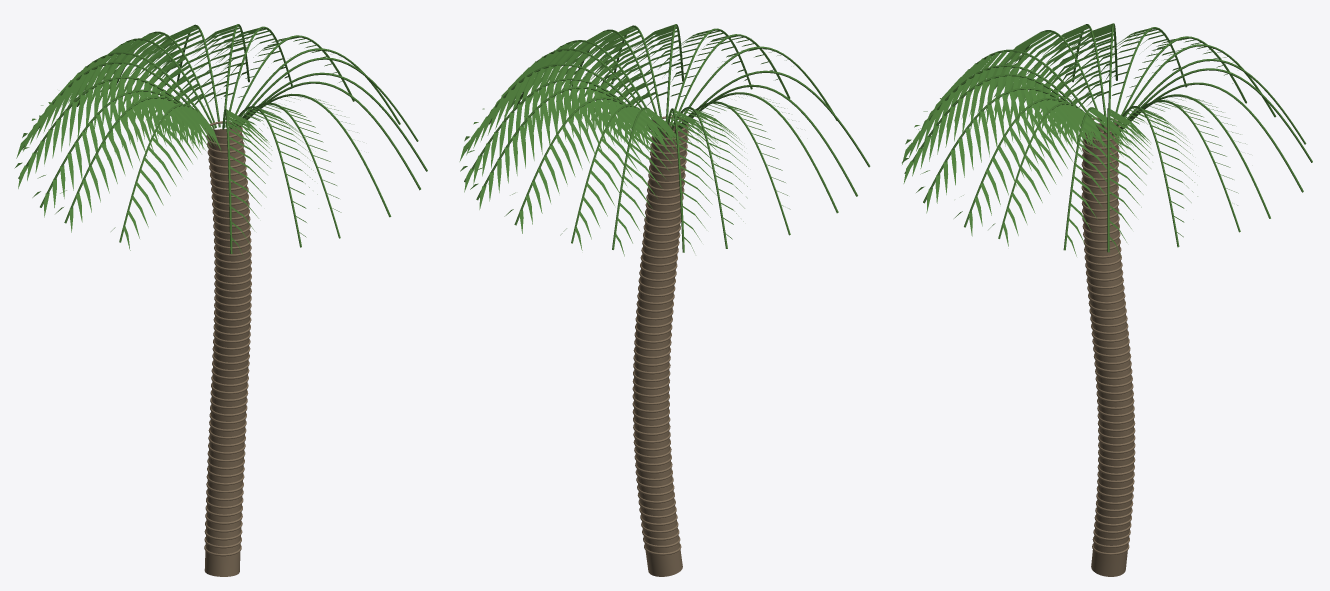
Rendered from palm.glb.
3 renders of one model, left to right at view 1: azimuth 30°, elevation 25°; view 2: azimuth 150°, elevation 25°; view 3: azimuth 270°, elevation 25°, orthographic.
Visible parts, largest first — view 1: CurvedTrunk, FrondStem.005, FrondStem.013, FrondStem.018, FrondStem.010, FrondStem; view 2: CurvedTrunk, FrondStem.012, FrondStem.017, FrondStem.004, FrondStem.007; view 3: CurvedTrunk, FrondStem.006, FrondStem.019, FrondStem.011, FrondStem.003, FrondStem.014.
Part boxes in pixels (x1,y1,x2,y2): CurvedTrunk: (204,125,250,576); FrondStem.005: (245,72,427,171); FrondStem.013: (242,57,418,141); FrondStem.018: (253,81,420,190); FrondStem.010: (239,93,391,217); FrondStem: (234,48,400,125); CurvedTrunk: (634,120,687,576); FrondStem.012: (685,70,870,167); FrondStem.017: (680,92,838,213); FrondStem.004: (699,84,857,196); FrondStem.007: (677,46,836,125); CurvedTrunk: (1082,121,1134,576); FrondStem.006: (1120,59,1306,144); FrondStem.019: (1138,68,1312,162); FrondStem.011: (1123,82,1303,192); FrondStem.003: (1120,94,1270,218); FrondStem.014: (1120,44,1276,123).
Size of the model in its own units: 4.51 by 6.06 by 4.51.
